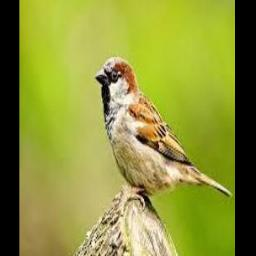Sparrow: (94, 56, 232, 210)
